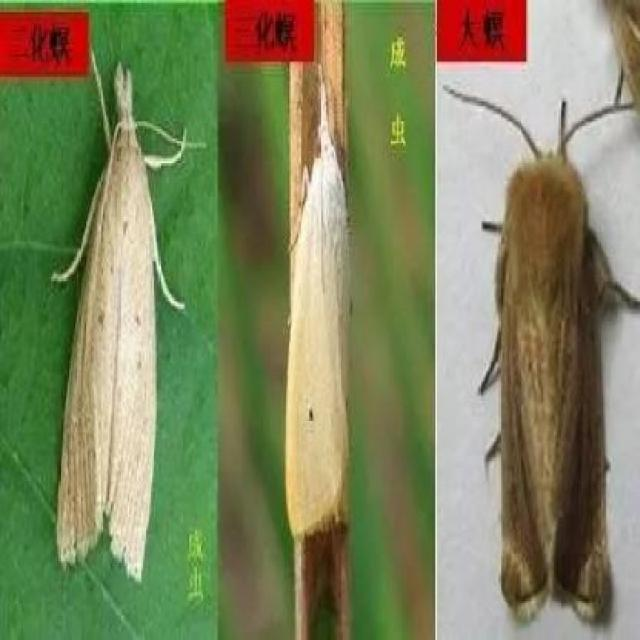stem-borer: (469, 79, 640, 638), (49, 47, 206, 593), (284, 72, 358, 543)
